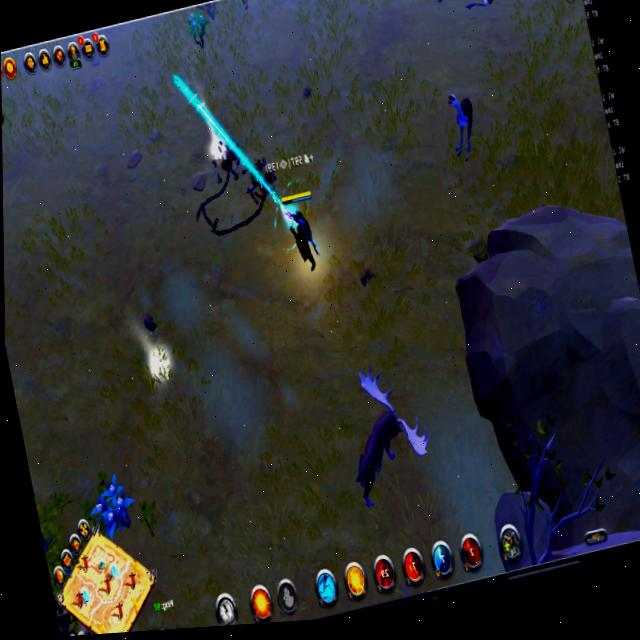hide: (85, 463, 141, 546), (184, 4, 213, 54)
mob: (453, 0, 508, 22), (420, 0, 471, 10)
ore: (328, 350, 441, 521), (433, 76, 489, 169)
red: (274, 179, 329, 282)
